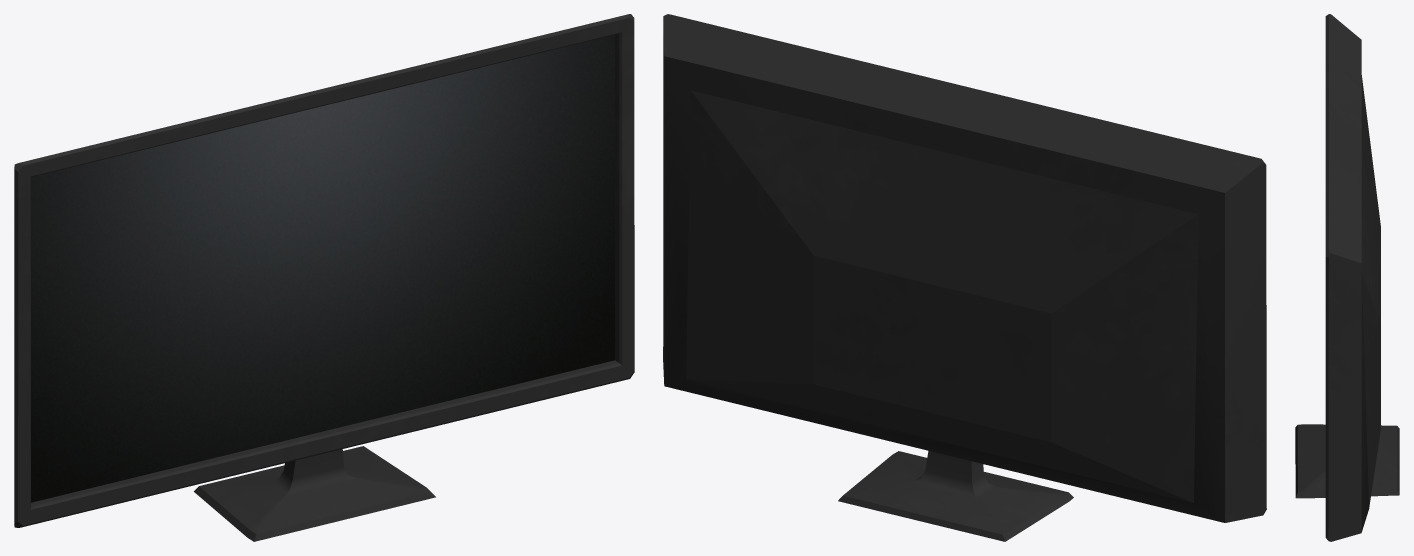
Rendered from Monitor_UVok.fbx.
3 renders of one model, left to right at view 1: azimuth 30°, elevation 25°; view 2: azimuth 150°, elevation 25°; view 3: azimuth 270°, elevation 25°, orthographic. The views are drawn at different scales.
Visible parts, largest first — view 1: pCube1; view 2: pCube1; view 3: pCube1.
Part boxes in pixels (<box>): pCube1: <box>14,14,634,541</box>; pCube1: <box>663,14,1266,541</box>; pCube1: <box>1295,14,1399,541</box>.
Size of the model in its own units: 98.97 by 63.38 by 18.13.
